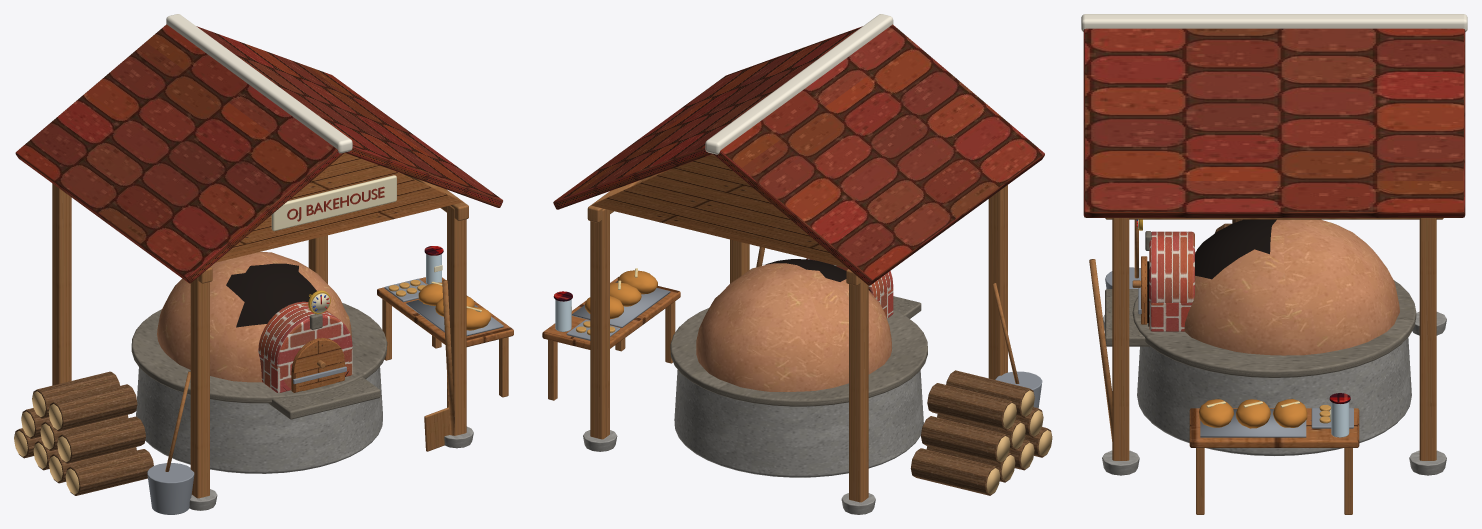
Rendered from bakeoven.glb.
The picture shows the model from 3 angles, left to right: view 1: azimuth 30°, elevation 25°; view 2: azimuth 150°, elevation 25°; view 3: azimuth 270°, elevation 25°; orthographic projection. The views are drawn at different scales.
Visible parts, largest first — view 1: bo_roof, bo_base, bo_roof.001, bo_dome, bo_gable, bo_cap, bo_post, bo_post.001, bo_post.002, bo_ridge, bo_arch_top, soot_dome (+16 smaller); view 2: bo_roof, bo_dome, bo_base, bo_gable.001, bo_roof.001, bo_cap, bo_post.003, bo_post.001, bo_ridge, bo_post, bo_log.008, bo_log.006 (+9 smaller); view 3: bo_roof.001, bo_dome, bo_base, bo_cap, bo_ridge, bo_post.002, bo_post.003, bo_arch_top, soot_dome, bo_bench, bo_rack, bo_peel_handle (+11 smaller).
Part boxes in pixels (x1,y1,x2,y2): bo_roof: (15,24,344,283); bo_base: (136,367,382,473); bo_roof.001: (196,26,502,207); bo_dome: (157,252,351,382); bo_gable: (215,153,462,262); bo_cap: (131,303,387,403); bo_post: (190,277,209,498); bo_post.001: (52,183,71,385); bo_post.002: (447,205,466,435); bo_ridge: (166,14,352,153); bo_arch_top: (258,301,352,389); soot_dome: (226,263,316,327); bo_roof: (713,24,1044,285); bo_dome: (696,263,891,391); bo_base: (674,370,923,477); bo_gable.001: (591,154,846,267); bo_roof.001: (553,26,862,209); bo_cap: (670,308,927,406); bo_post.003: (590,209,609,439); bo_post.001: (849,279,868,502); bo_ridge: (705,14,893,154); bo_post: (988,185,1007,379); bo_log.008: (927,383,1016,430); bo_log.006: (921,416,1010,463); bo_roof.001: (1083,28,1465,217); bo_dome: (1184,219,1399,355); bo_base: (1137,337,1411,455); bo_cap: (1132,280,1416,377); bo_ridge: (1081,14,1467,31); bo_post.002: (1112,218,1129,460); bo_post.003: (1419,218,1436,460); bo_arch_top: (1149,231,1194,302); soot_dome: (1195,219,1276,279); bo_bench: (1189,408,1359,447); bo_rack: (1200,409,1306,437); bo_peel_handle: (1089,259,1112,441).
Bounding box in the file's own units: 5.25 × 4.01 × 3.65.
28 materials, 9 textured.
